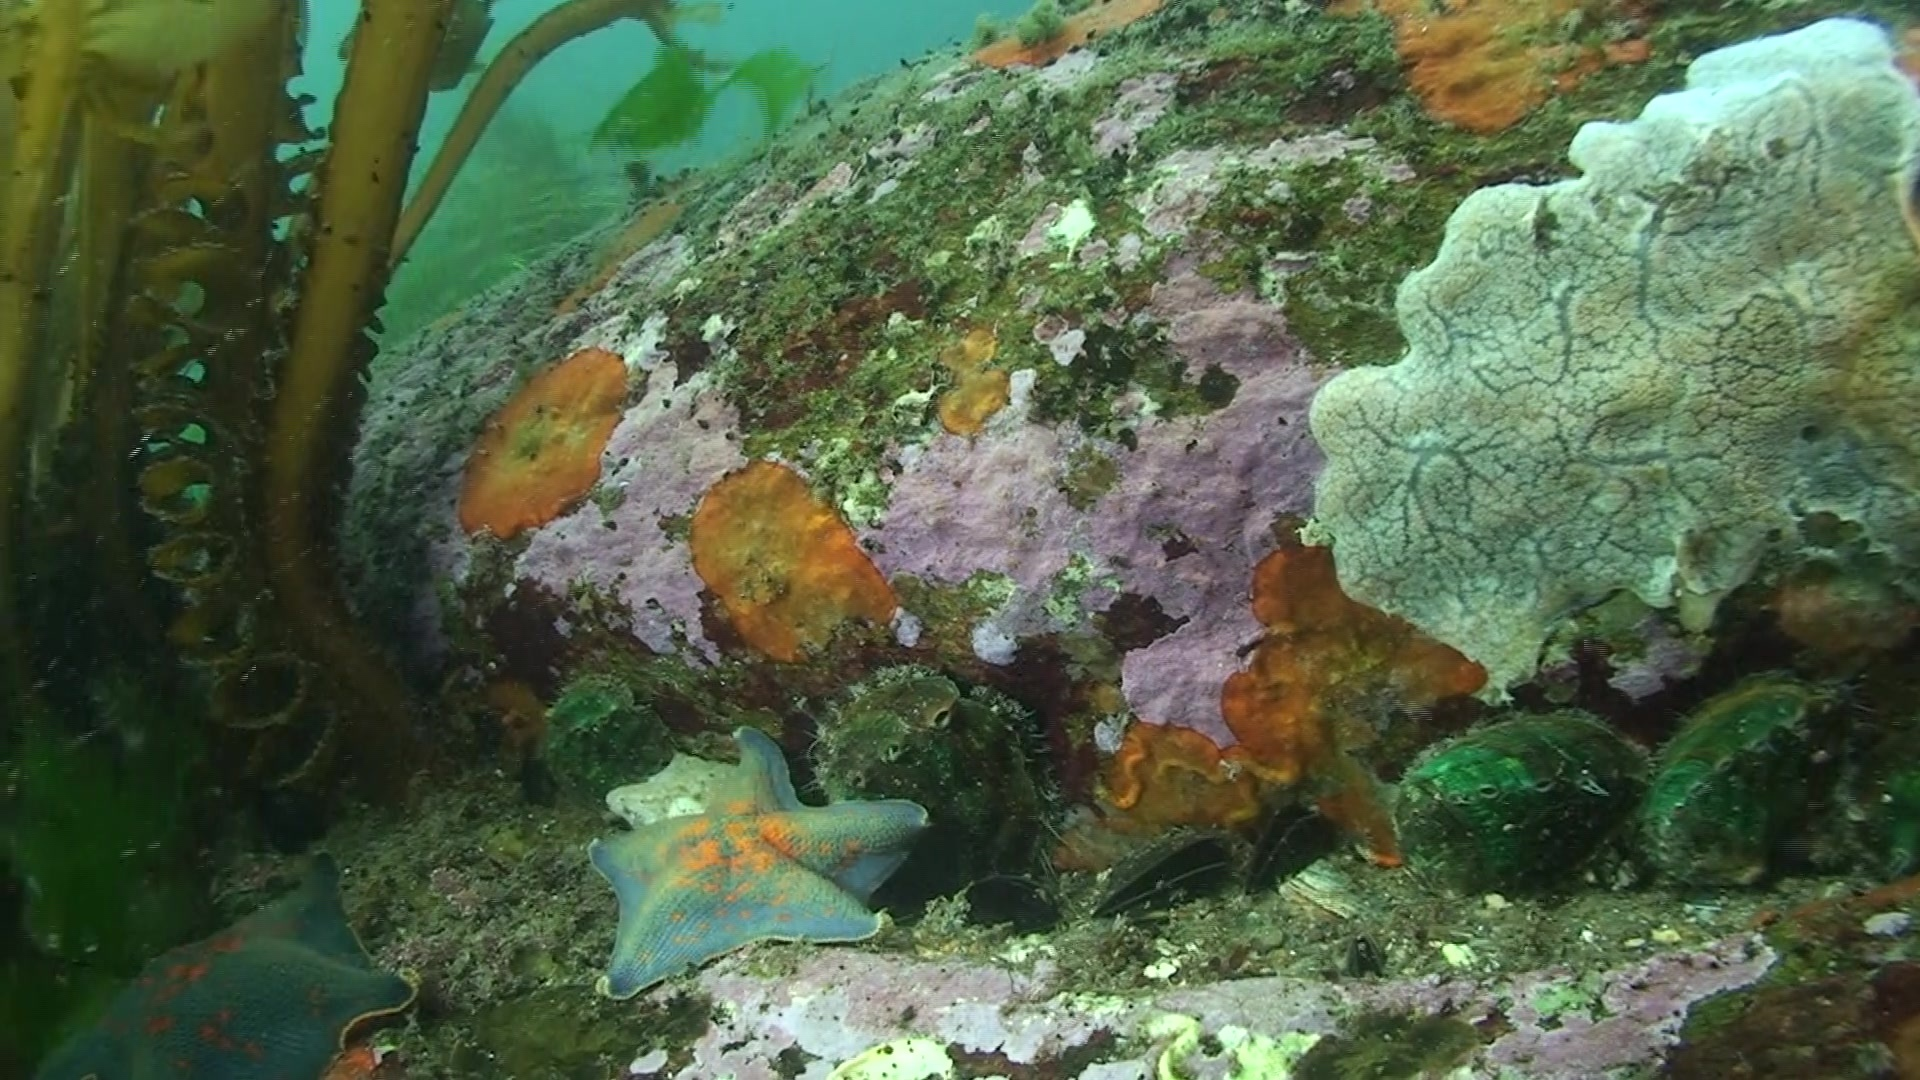starfish: (593, 723, 931, 1007), (32, 847, 419, 1080)
